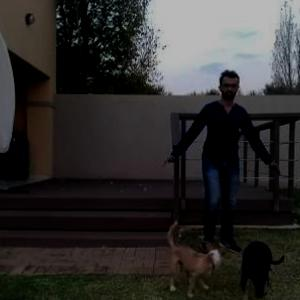land: (162, 70, 274, 264)
